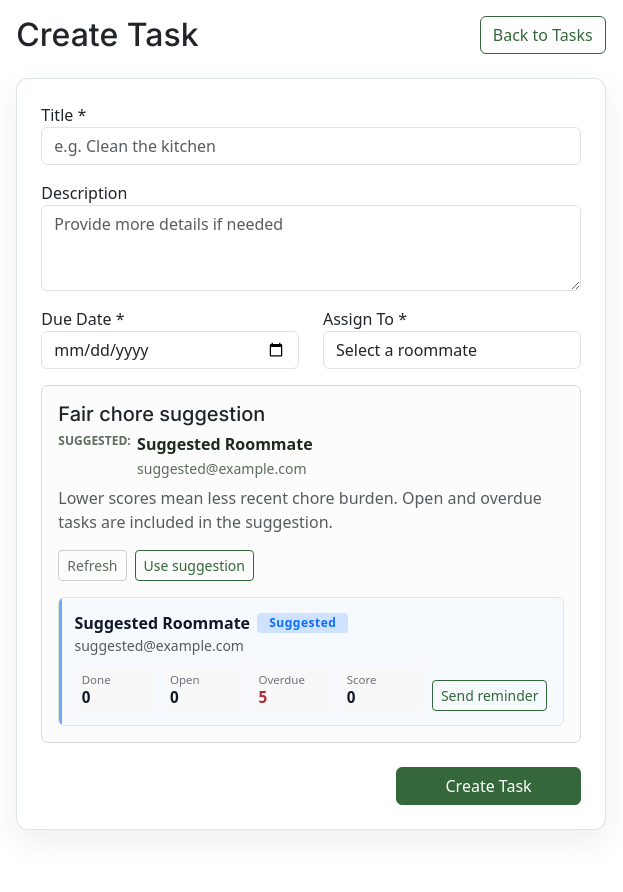
Scenario: TaskCreateComponent › should show clear error when overdue reminder is rejected
Click the button with test id "send-overdue-reminder" at [490, 696], box x1=432 y1=680 x2=547 y2=711
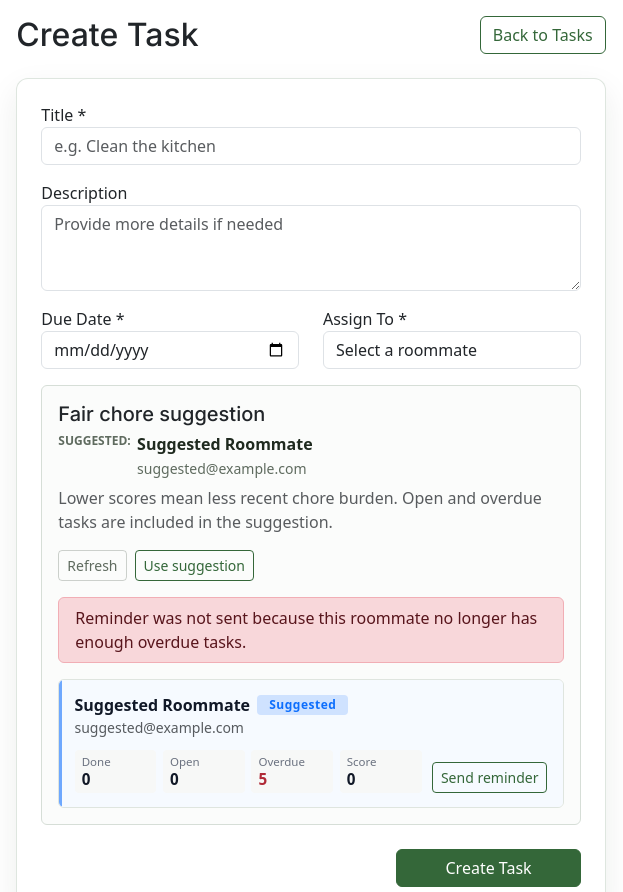
Expected: the message with test id "overdue-reminder-error" shows "no longer has enough overdue tasks", x1=75 y1=607 x2=537 y2=653
